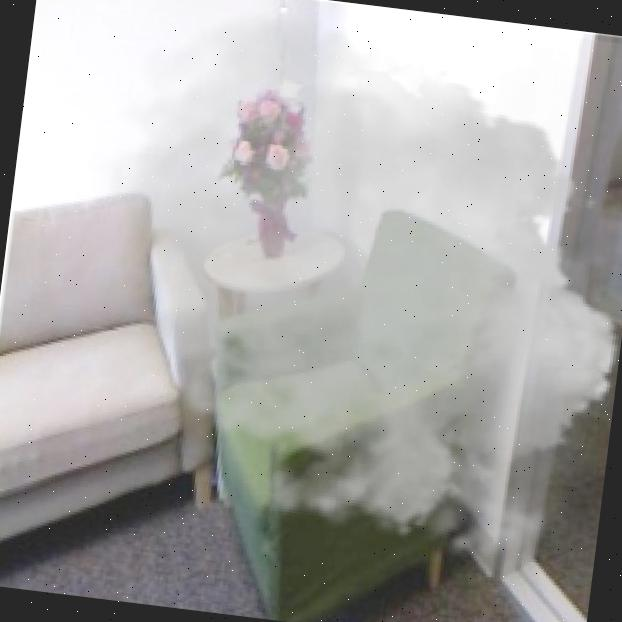smoke: (42, 0, 622, 592)
